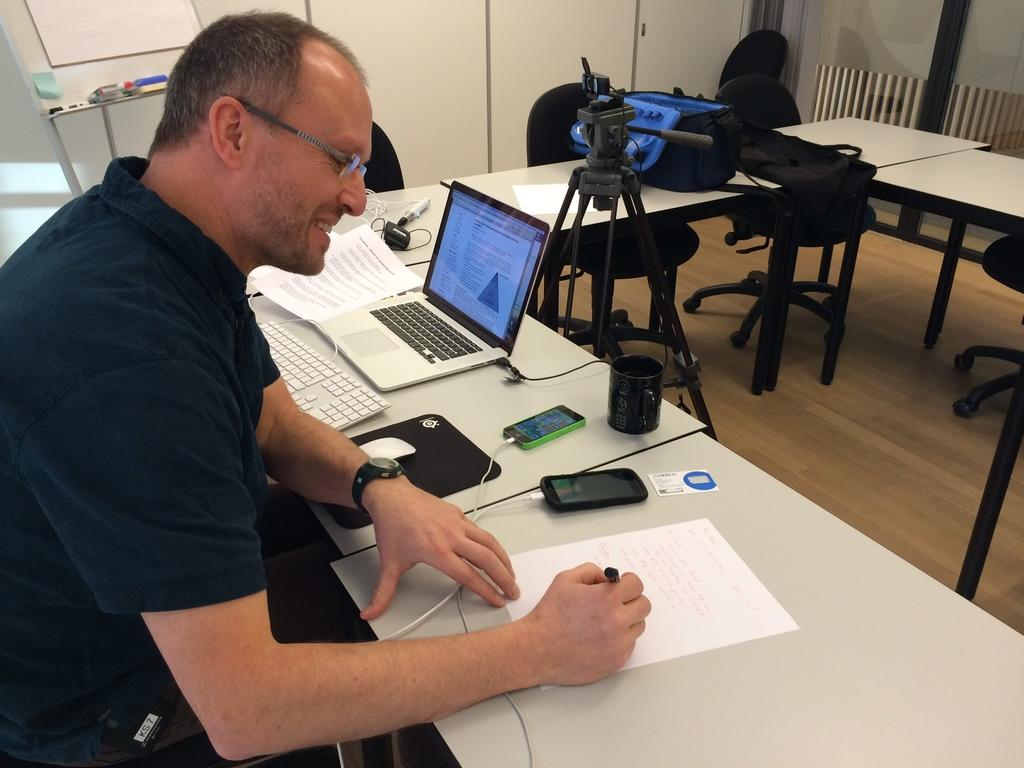Computer-keyboard: (257, 319, 387, 431), (364, 298, 483, 367)
